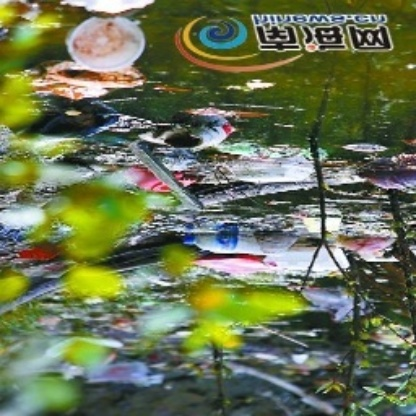bottle: (183, 229, 270, 257)
